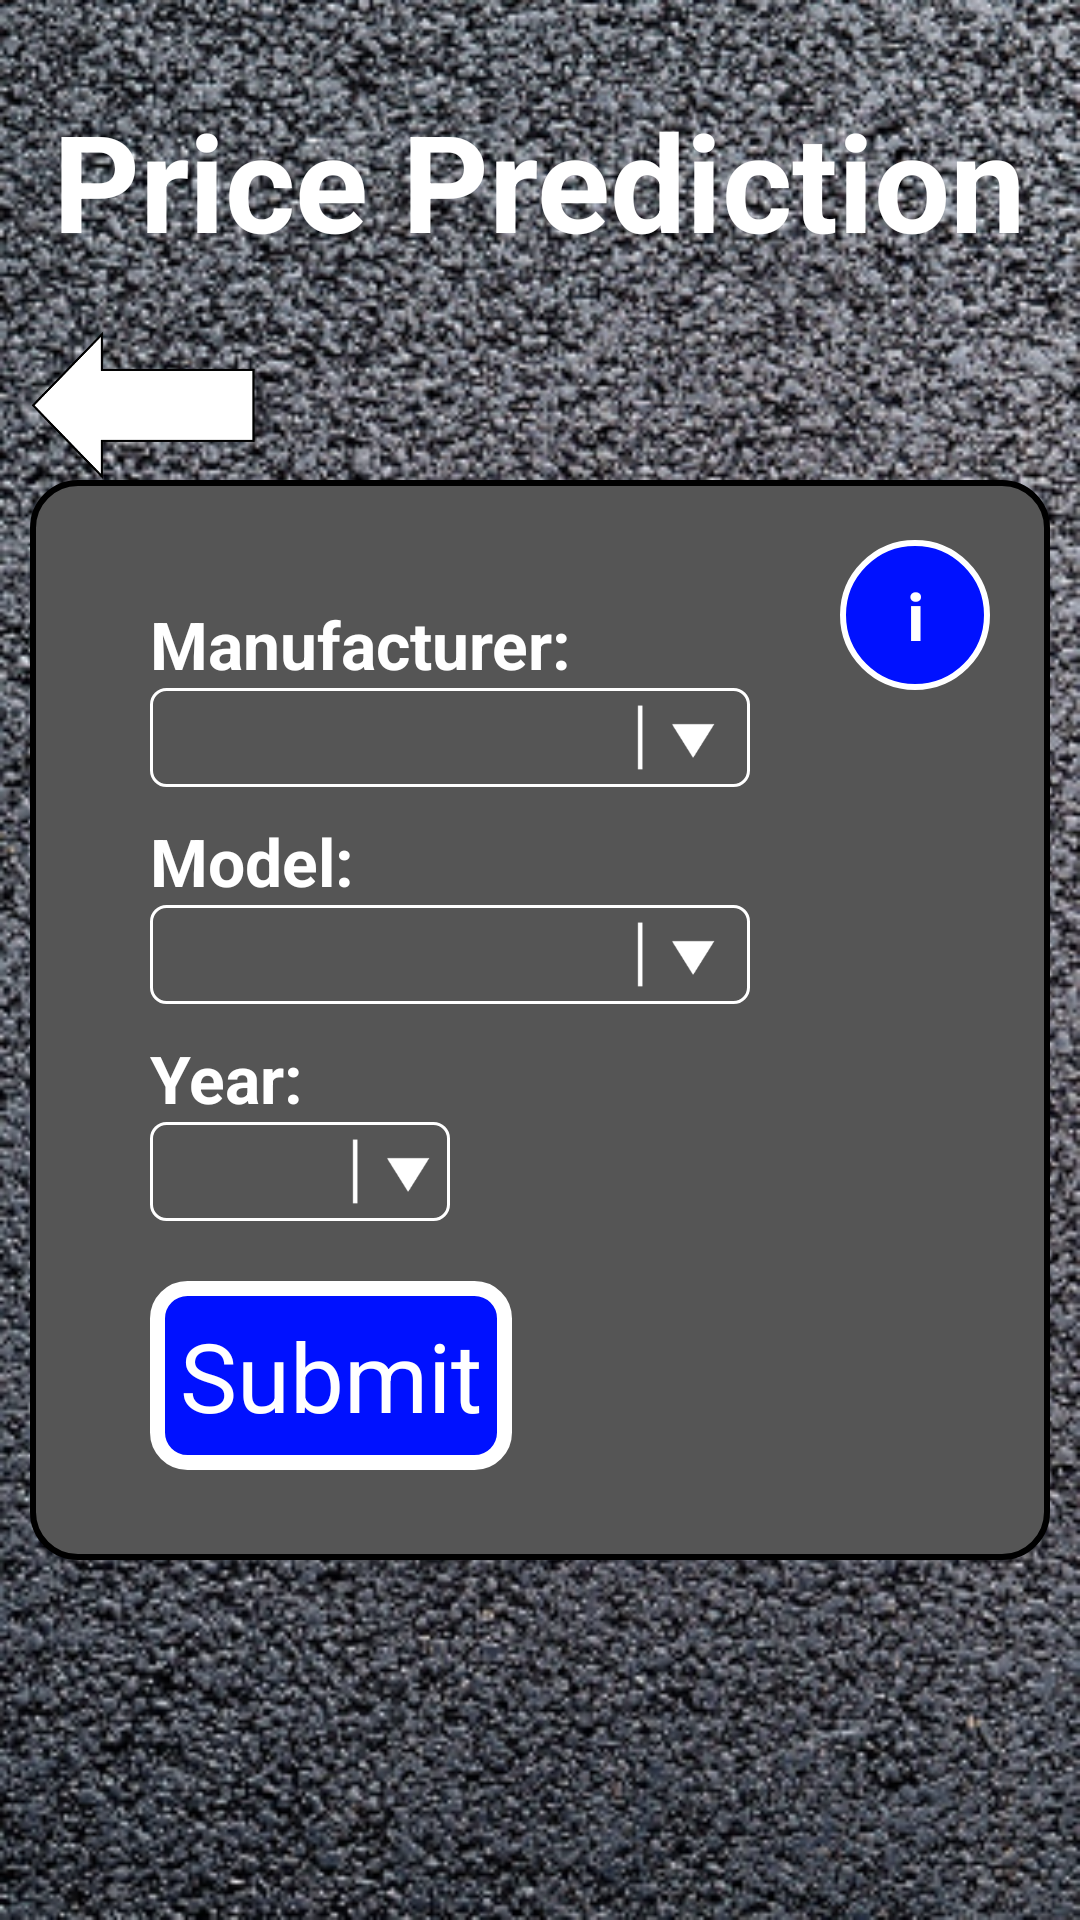

Screen size 1080*1920. Icon name, then its center in pixels as point (x, y):
spinner end: point (675, 737), point (675, 954), point (390, 1171)
Tap to go back: point (142, 405)
